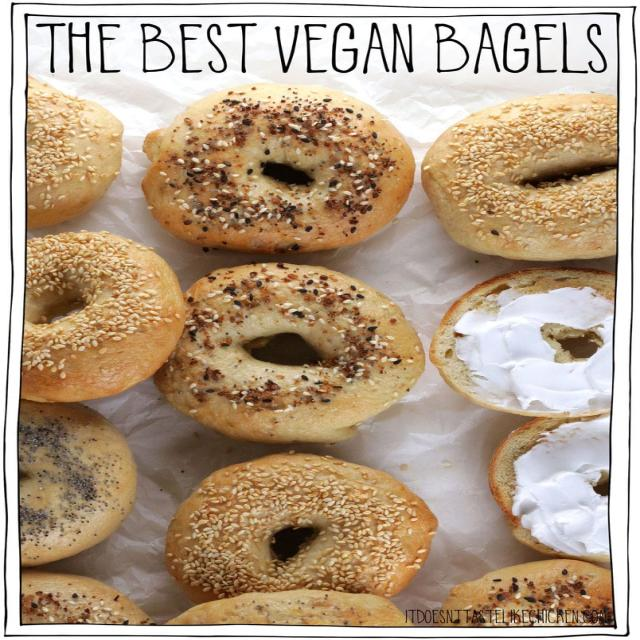Bagel: (155, 262, 424, 444), (142, 84, 414, 254), (166, 454, 437, 602), (422, 94, 618, 261), (21, 231, 185, 401), (429, 269, 616, 417), (19, 400, 136, 566), (489, 414, 608, 564), (26, 78, 123, 227), (437, 559, 614, 626)
